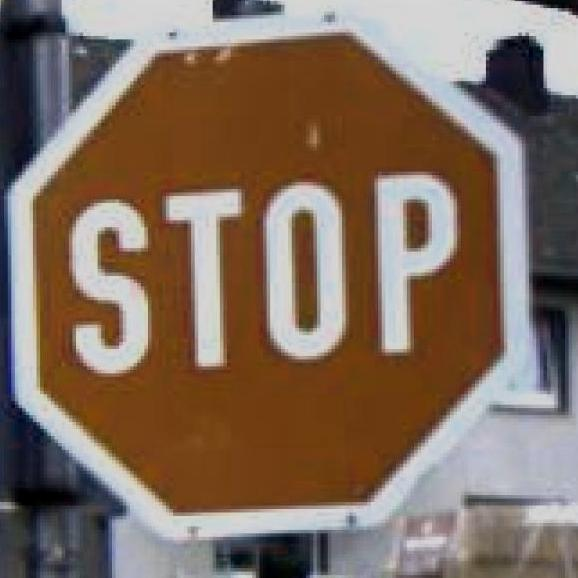stop_sign: (0, 5, 526, 536)
